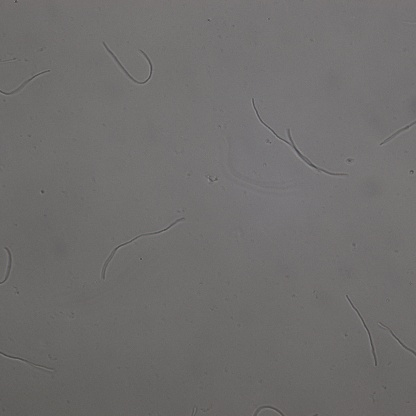Sensitive: (252, 97, 348, 178), (101, 217, 183, 280), (346, 295, 378, 366), (103, 41, 153, 84), (1, 68, 51, 97), (379, 322, 416, 357), (1, 350, 56, 373), (380, 119, 416, 142), (1, 245, 13, 284)
